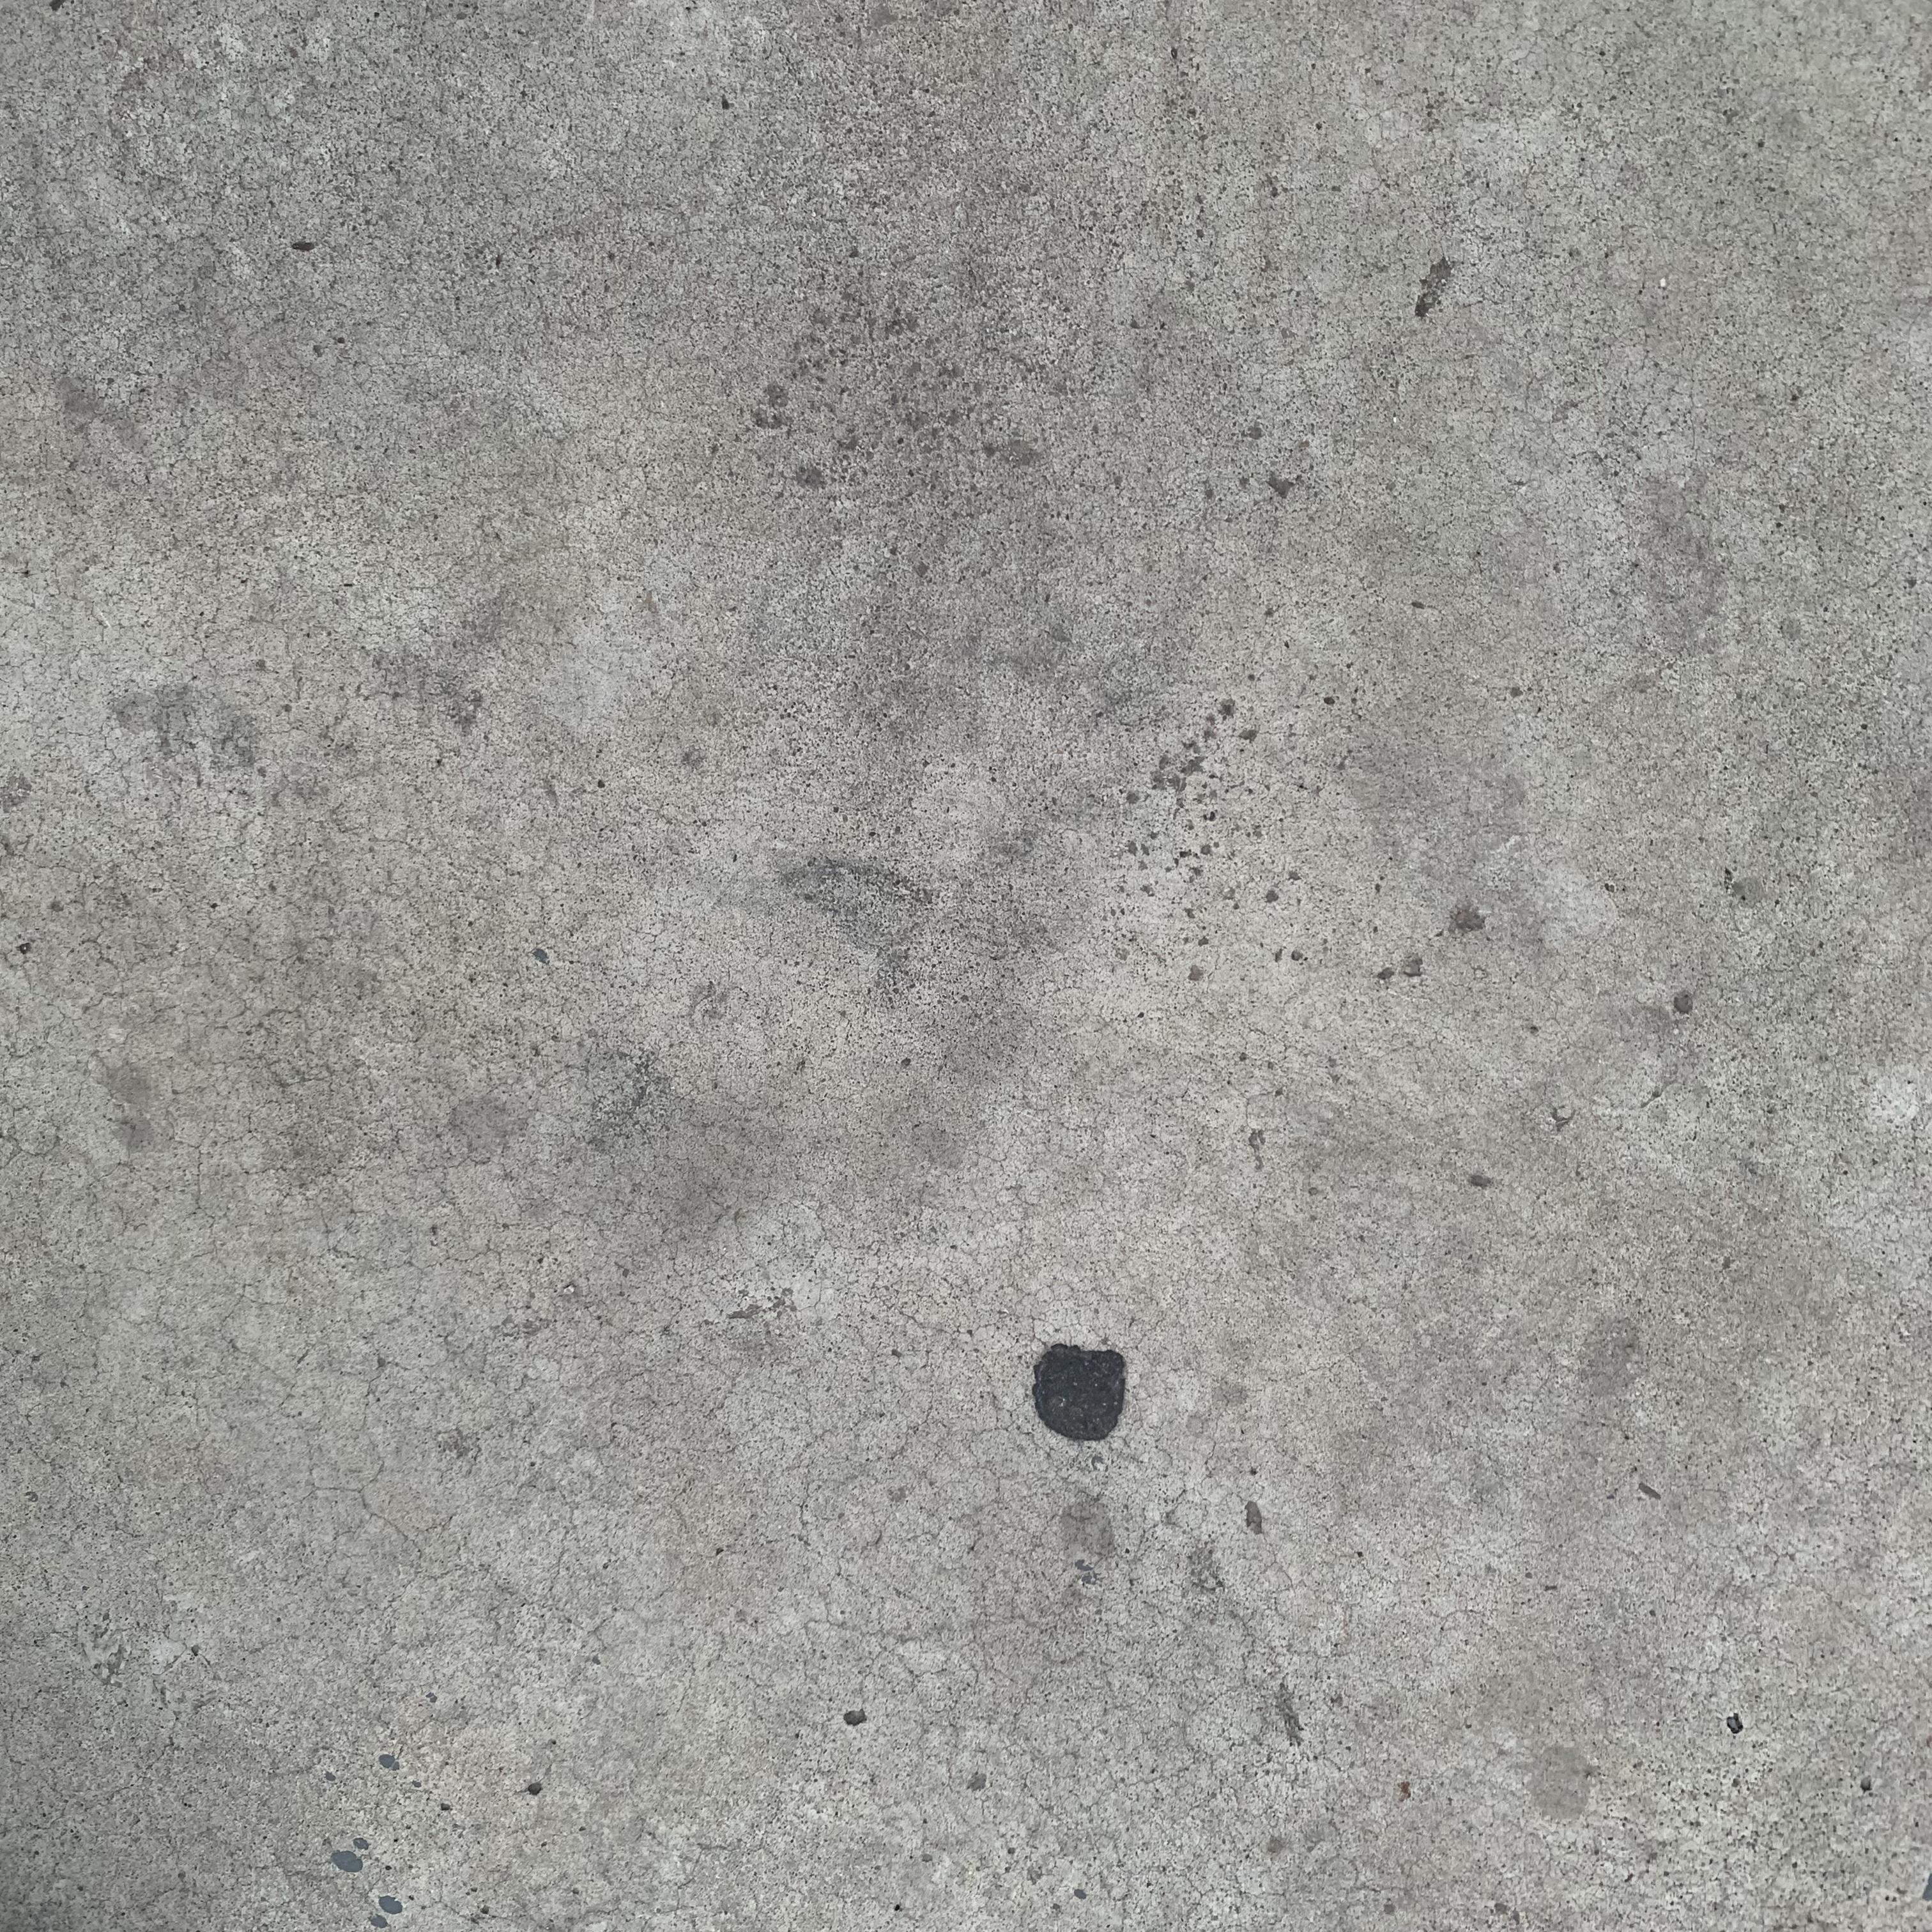grey spot: (1028, 1339, 1127, 1442)
